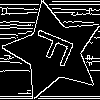F: (28, 26, 84, 73)
